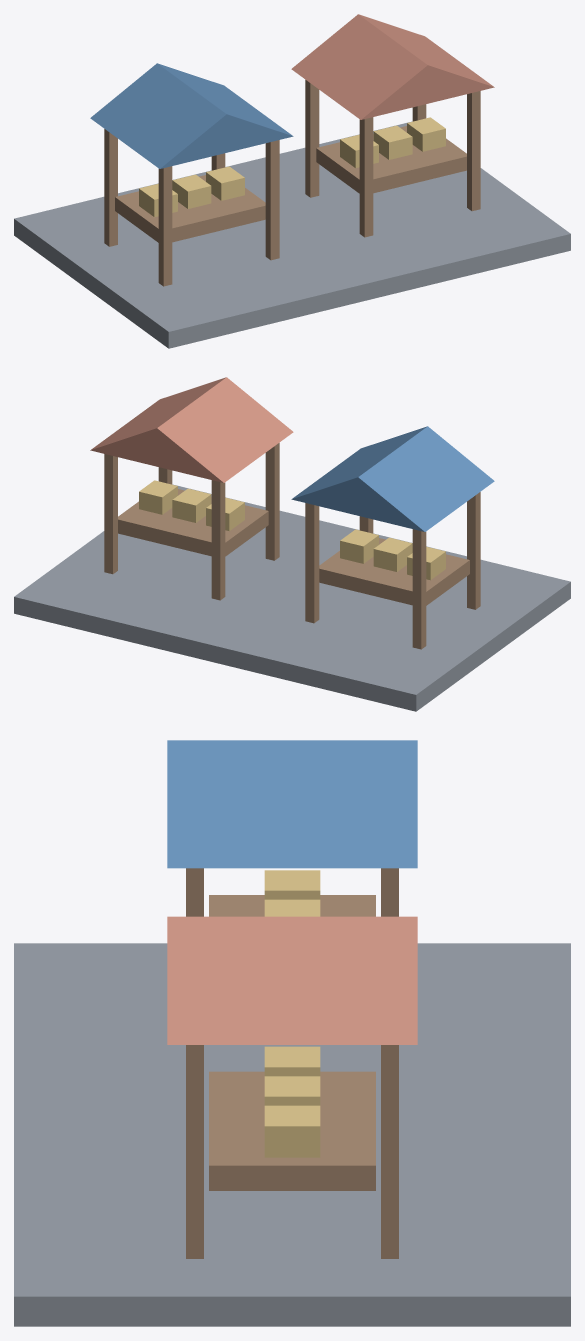
The model's file is mercado.glb.
The picture shows the model from 3 angles, top to bottom: view 1: azimuth 30°, elevation 25°; view 2: azimuth 150°, elevation 25°; view 3: azimuth 270°, elevation 25°; orthographic projection. The views are drawn at different scales.
Parts seen in each view (by area): view 1: world; view 2: world; view 3: world.
Part boxes in pixels (<box>): world: <box>14,14,570,348</box>; world: <box>14,377,570,711</box>; world: <box>14,740,570,1326</box>.
Bounding box in the file's own units: 6 × 2.55 × 4.
